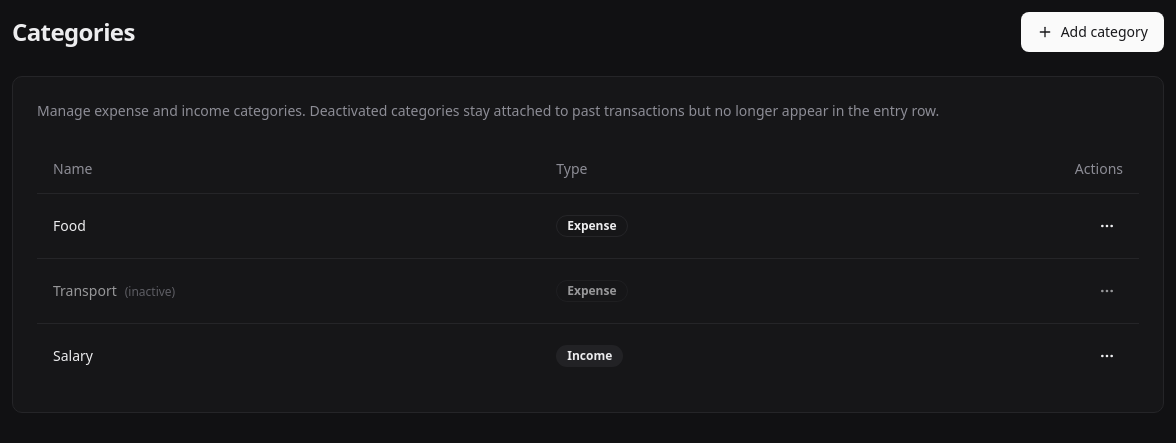
Categories › as admin › inactive category kebab shows Activate
The width and height of the screenshot is (1176, 443).
Expected: the text "Transport" is shown, [53,280,117,300]
Click the button named "actions for transport" at [1107, 290], box [1091,274,1123,306]
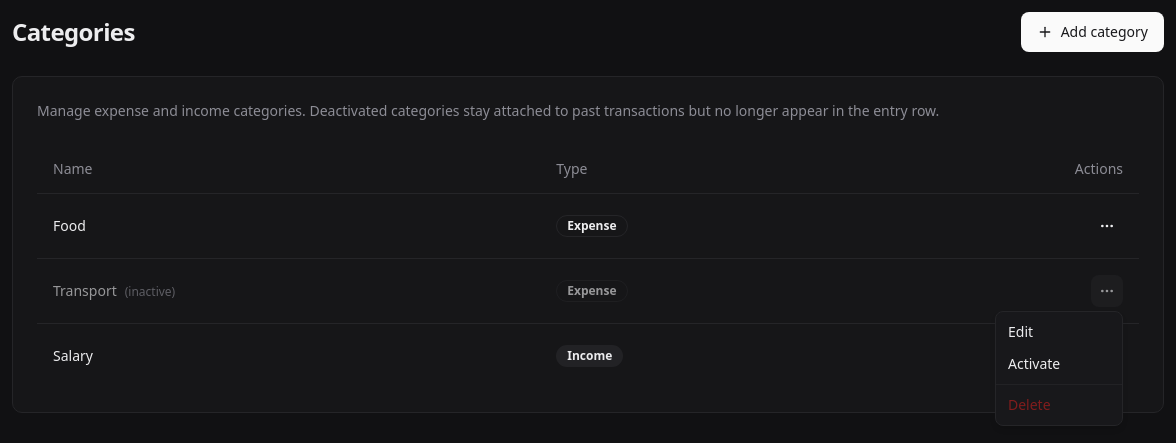
Expected: the menu item "Activate" is shown, [1008,354,1060,373]
